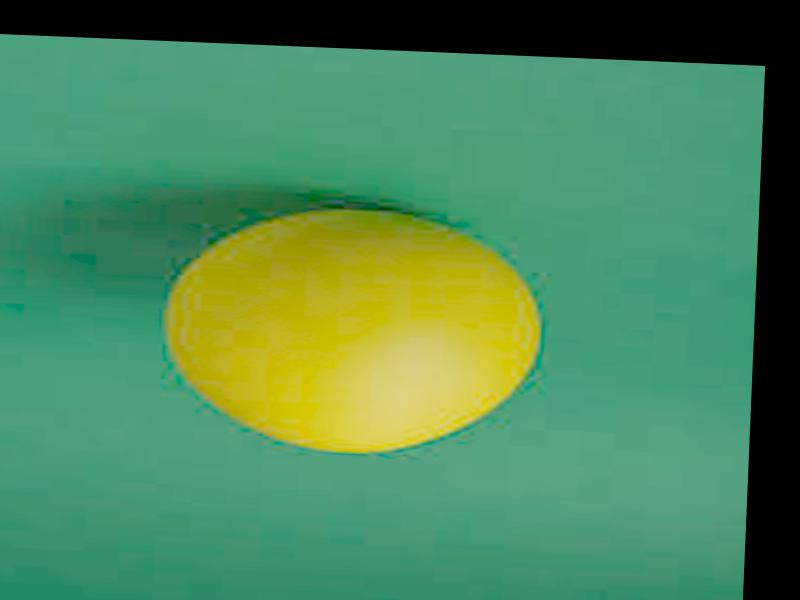Eggs: (172, 200, 549, 462)
